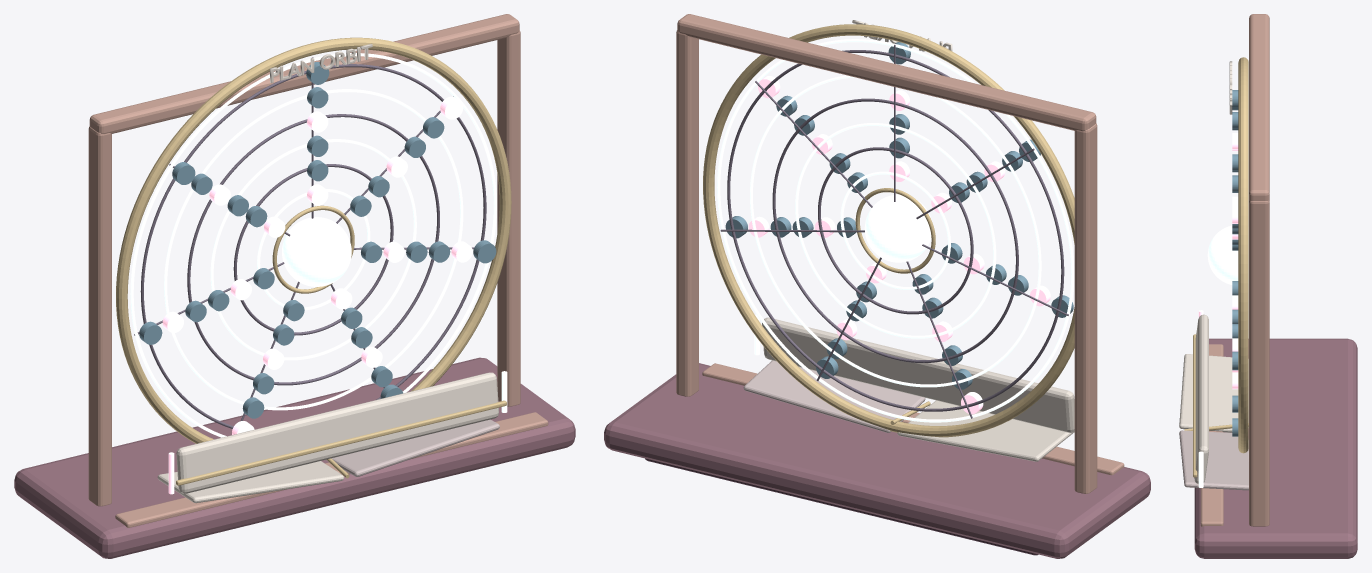
The model's file is PlanOrbit.glb.
The picture shows the model from 3 angles, left to right: view 1: azimuth 30°, elevation 25°; view 2: azimuth 150°, elevation 25°; view 3: azimuth 270°, elevation 25°; orthographic projection. The views are drawn at different scales.
Visible parts, largest first — view 1: Plan_Base, Plan_Task_Ribbon, Plan_Outer_Frame, Plan_Support_Left, Plan_Header_Beam, Plan_Support_Right, Plan_Goal_Core, Plan_Outer_Light, Plan_Week_Ring_05, Plan_Page_Right, Plan_Week_Ring_06, Plan_Base_Inset (+8 smaller); view 2: Plan_Base, Plan_Outer_Frame, Plan_Header_Beam, Plan_Task_Ribbon, Plan_Support_Left, Plan_Support_Right, Plan_Page_Right, Plan_Page_Left, Plan_Outer_Light, Plan_Week_Ring_06, Plan_Goal_Core, Plan_Week_Ring_05 (+7 smaller); view 3: Plan_Base, Plan_Support_Right, Plan_Outer_Frame, Plan_Header_Beam, Plan_Page_Right, Plan_Page_Left, Plan_Task_Ribbon, Plan_Goal_Core, Plan_Base_Inset, Plan_Task_Ribbon_Edge.
Part boxes in pixels (left/top/right/bottom): Plan_Base: left=14, top=357, right=575, bottom=558; Plan_Task_Ribbon: left=176, top=372, right=498, bottom=493; Plan_Outer_Frame: left=116, top=37, right=511, bottom=443; Plan_Support_Left: left=88, top=126, right=111, bottom=506; Plan_Header_Beam: left=89, top=14, right=519, bottom=133; Plan_Support_Right: left=497, top=30, right=520, bottom=406; Plan_Goal_Core: left=282, top=217, right=351, bottom=286; Plan_Outer_Light: left=130, top=53, right=496, bottom=437; Plan_Week_Ring_05: left=164, top=89, right=463, bottom=410; Plan_Page_Right: left=326, top=419, right=499, bottom=476; Plan_Week_Ring_06: left=140, top=64, right=486, bottom=428; Plan_Base_Inset: left=115, top=412, right=548, bottom=527; Plan_Base: left=604, top=363, right=1150, bottom=558; Plan_Outer_Frame: left=703, top=24, right=1074, bottom=437; Plan_Header_Beam: left=677, top=14, right=1096, bottom=130; Plan_Task_Ribbon: left=762, top=317, right=1074, bottom=432; Plan_Support_Left: left=1074, top=123, right=1097, bottom=493; Plan_Support_Right: left=676, top=30, right=698, bottom=396; Plan_Page_Right: left=743, top=360, right=925, bottom=432; Plan_Page_Left: left=897, top=400, right=1074, bottom=461; Plan_Outer_Light: left=717, top=39, right=1074, bottom=422; Plan_Week_Ring_06: left=727, top=50, right=1064, bottom=411; Plan_Goal_Core: left=864, top=194, right=931, bottom=262; Plan_Week_Ring_05: left=750, top=75, right=1041, bottom=387; Plan_Base: left=1194, top=338, right=1357, bottom=558; Plan_Support_Right: left=1249, top=200, right=1269, bottom=526; Plan_Outer_Frame: left=1238, top=57, right=1248, bottom=453; Plan_Header_Beam: left=1249, top=14, right=1269, bottom=200; Plan_Page_Right: left=1179, top=430, right=1248, bottom=490; Plan_Page_Left: left=1179, top=354, right=1248, bottom=432; Plan_Task_Ribbon: left=1194, top=314, right=1208, bottom=484; Plan_Goal_Core: left=1207, top=225, right=1248, bottom=284; Plan_Base_Inset: left=1200, top=344, right=1223, bottom=526; Plan_Task_Ribbon_Edge: left=1193, top=334, right=1197, bottom=477.
Size of the model in its own units: 8.8 by 7.96 by 3.28.
